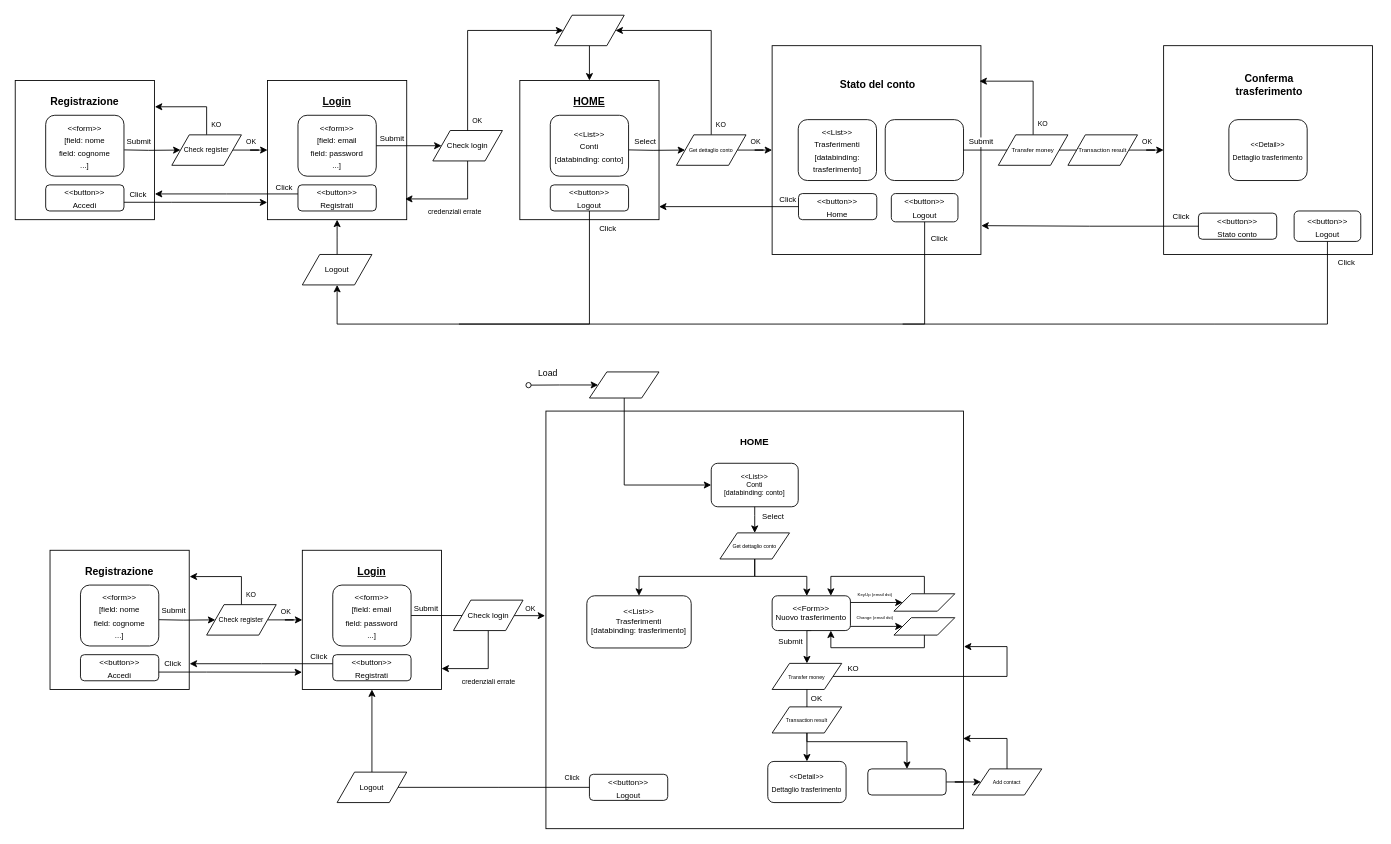
Some shapes in this 1391 by 844 pixel diagram are drawn without their labels. The centre of each missing label's shape, as x and y in pixels:
"<<button>> Aggiungi contatto" belongs at point 906,781.
"<<Form>> [field: email dst field: conto dst ...]" belongs at point 924,150.
"Find contacts" belongs at point 924,602.
"Find conti contatto" belongs at point 924,626.
"Get conti" belongs at point 624,384.
"Home redirect" belongs at point 589,30.
